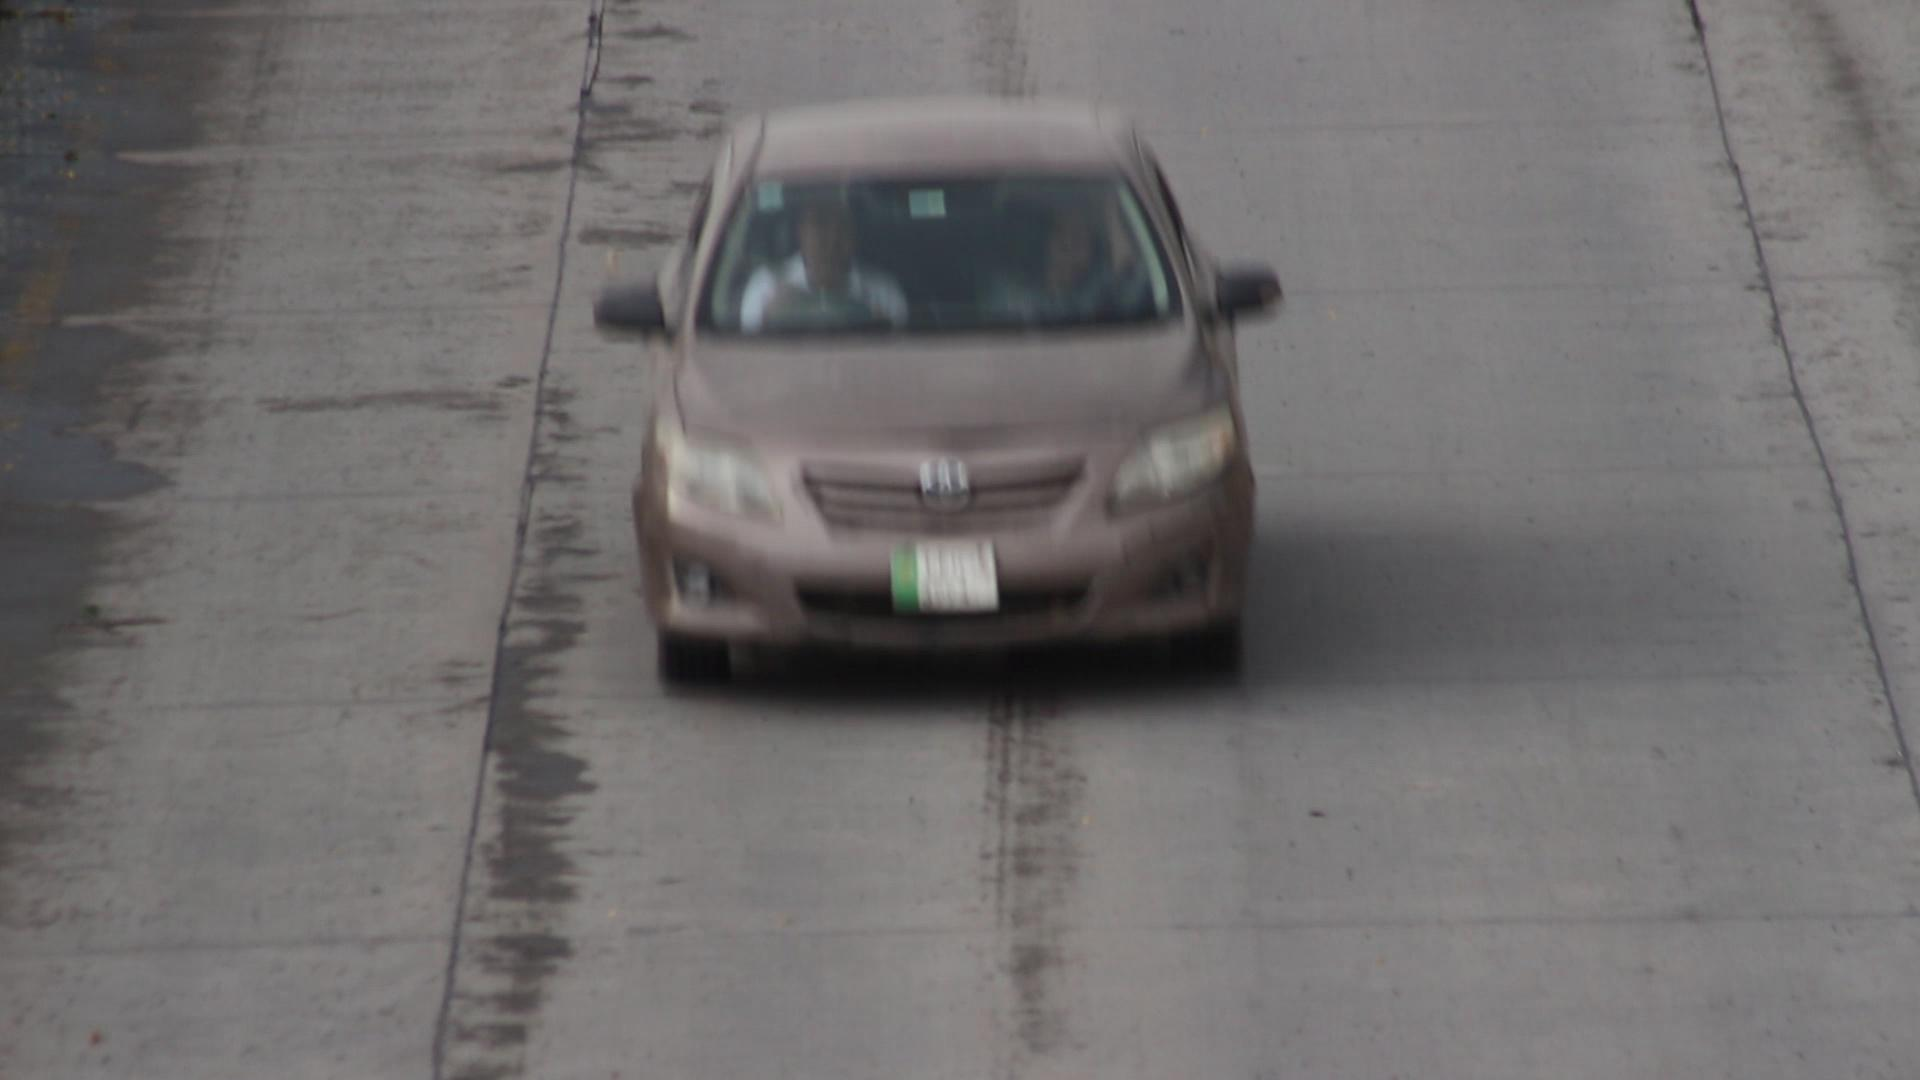windshield: (698, 160, 1178, 330)
